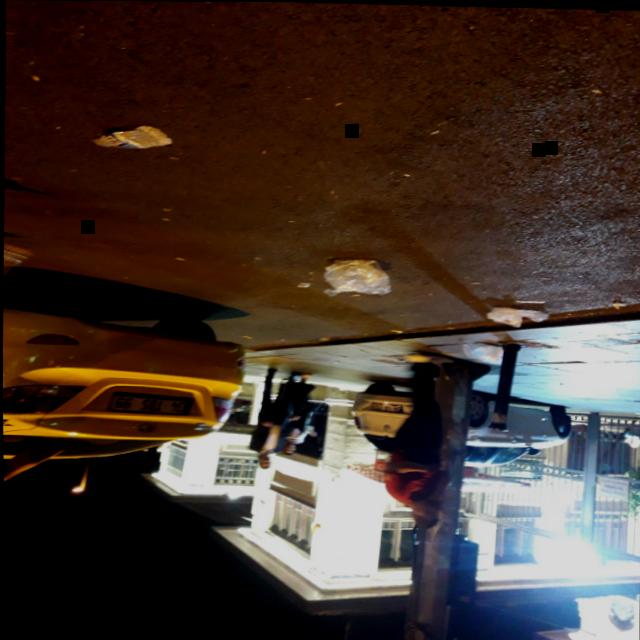Clear plastic bottle: (92, 124, 172, 149)
Plastic film: (322, 258, 391, 295), (486, 306, 547, 326), (462, 342, 502, 361)
Unlabeled litter: (611, 300, 625, 307), (298, 281, 311, 286)
